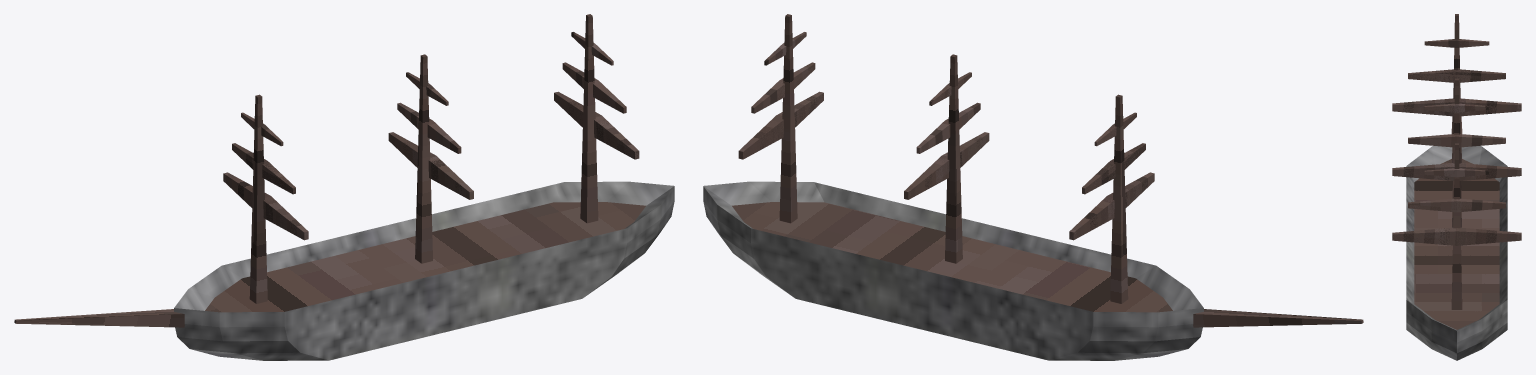
File: ship.glb
3 views of the same model, side by side, from view 1: azimuth 30°, elevation 25°; view 2: azimuth 150°, elevation 25°; view 3: azimuth 270°, elevation 25° (orthographic). The views are drawn at different scales.
Visible parts, largest first — view 1: Base; view 2: Base; view 3: Base.
Part boxes in pixels (x1,y1,x2,y2): Base: [14, 14, 674, 360]; Base: [703, 14, 1363, 360]; Base: [1392, 14, 1521, 360].
Bounding box in the file's own units: 104 × 37.71 × 22.01.
Materials: 4 (4 with a texture image).
